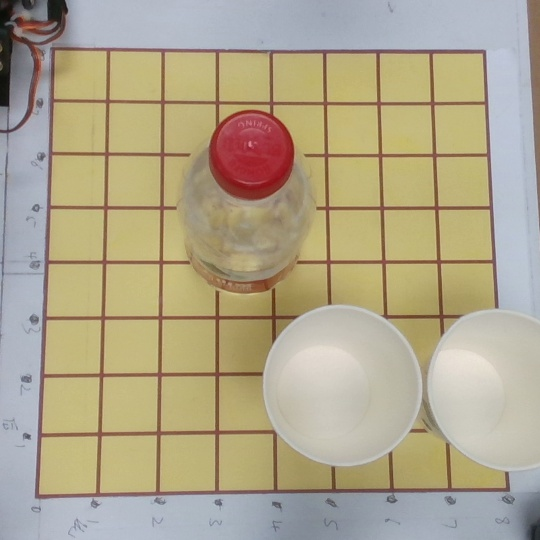bottle: (164, 109, 315, 314)
cup: (247, 301, 423, 475), (427, 304, 540, 479)
